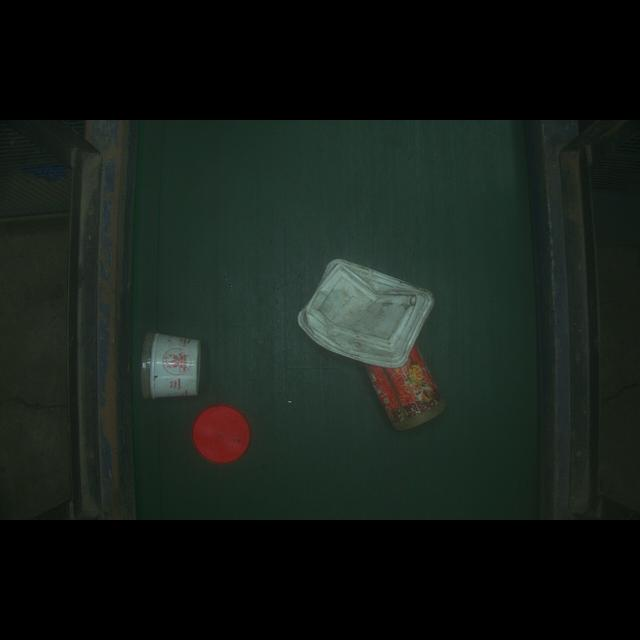mix rigid: (294, 241, 439, 364), (368, 353, 445, 443), (187, 402, 274, 479), (142, 325, 209, 411)
